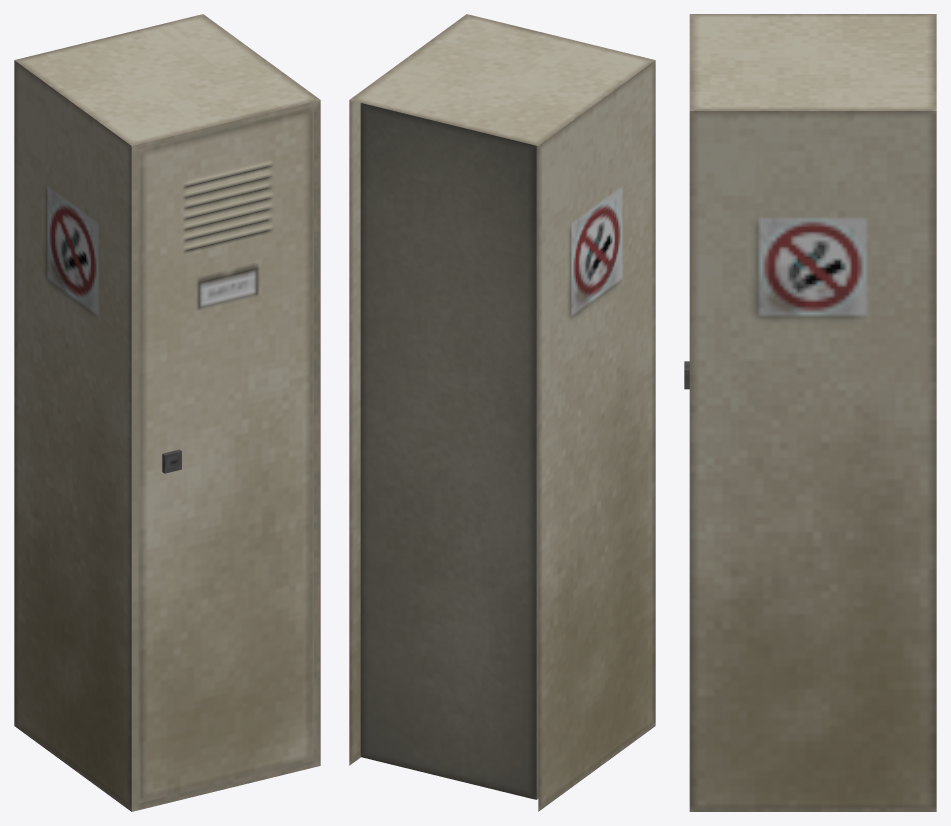
File: locker.fbx
The picture shows the model from 3 angles, left to right: view 1: azimuth 30°, elevation 25°; view 2: azimuth 150°, elevation 25°; view 3: azimuth 270°, elevation 25°; orthographic projection. The views are drawn at different scales.
Visible parts, largest first — view 1: locker_door, locker; view 2: locker; view 3: locker.
Boxes of the visible parts, x1,y1,x2,y2 form: locker_door: [138, 106, 313, 803]; locker: [14, 14, 320, 811]; locker: [349, 14, 655, 811]; locker: [689, 14, 936, 811].
Size of the model in its own units: 60.38 by 203 by 66.35.
Materials: 1 (1 with a texture image).
